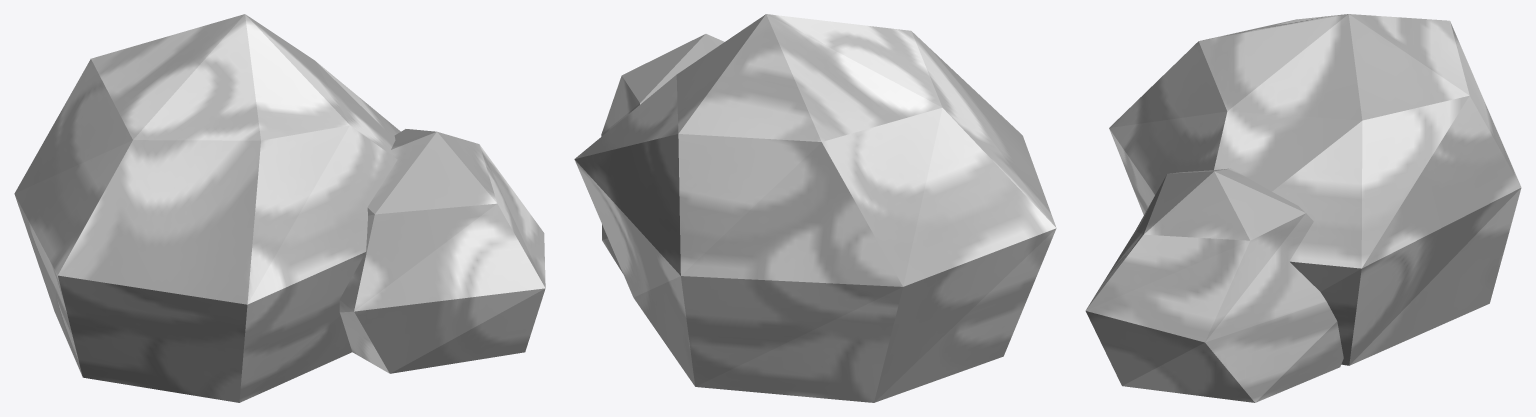
The model's file is bush_1.obj.
3 views of the same model, side by side, from view 1: azimuth 30°, elevation 25°; view 2: azimuth 150°, elevation 25°; view 3: azimuth 270°, elevation 25° (orthographic). The views are drawn at different scales.
Parts seen in each view (by area): view 1: bush_1; view 2: bush_1; view 3: bush_1.
Boxes of the visible parts, left/top/right/bottom form: bush_1: left=14, top=14, right=545, bottom=402; bush_1: left=574, top=14, right=1056, bottom=402; bush_1: left=1085, top=14, right=1521, bottom=402.
Bounding box in the file's own units: 0.6794 × 0.42 × 0.5683.
